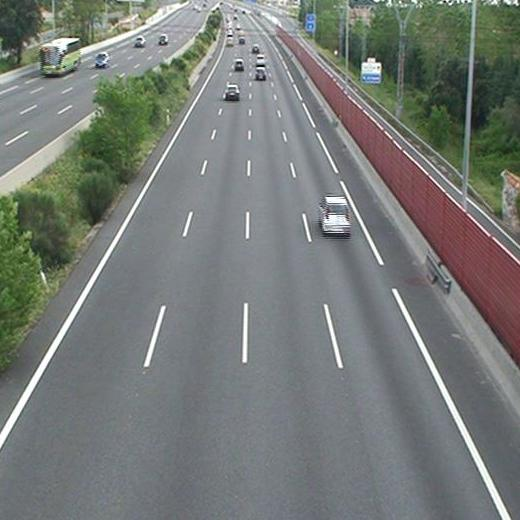car: (319, 197, 350, 234), (225, 85, 239, 100), (255, 54, 266, 66), (255, 68, 266, 79), (234, 60, 242, 70)
